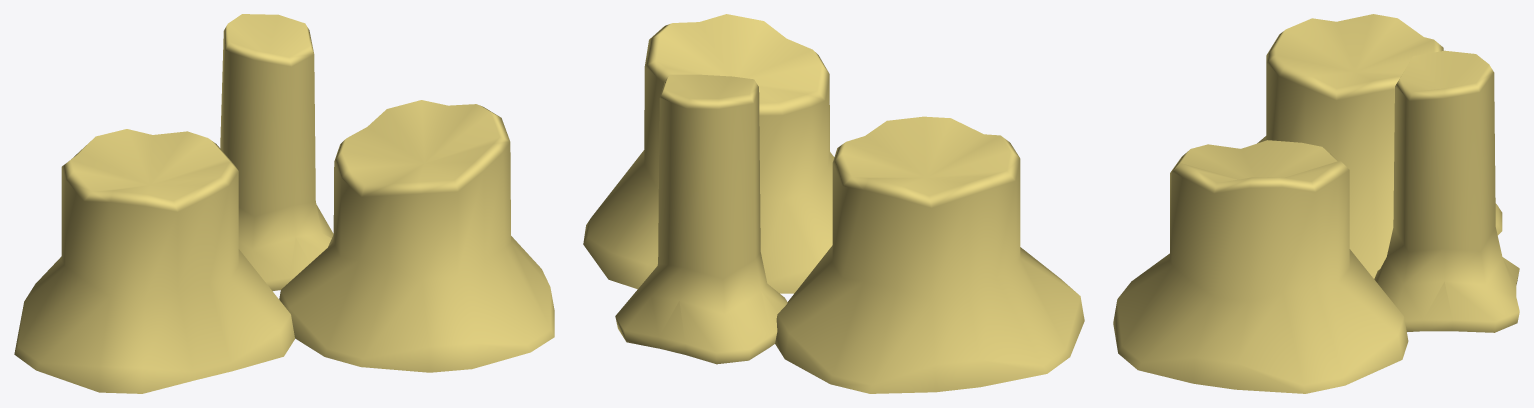
The model's file is SM_Candles_01.fbx.
3 views of the same model, side by side, from view 1: azimuth 30°, elevation 25°; view 2: azimuth 150°, elevation 25°; view 3: azimuth 270°, elevation 25° (orthographic). The views are drawn at different scales.
Visible parts, largest first — view 1: SM_Candles_01; view 2: SM_Candles_01; view 3: SM_Candles_01.
Part boxes in pixels (box(x1,y1,x2,y2)): SM_Candles_01: box(14, 14, 554, 393); SM_Candles_01: box(583, 14, 1084, 393); SM_Candles_01: box(1113, 14, 1519, 393).
Bounding box in the file's own units: 0.7474 × 0.351 × 0.5482.
